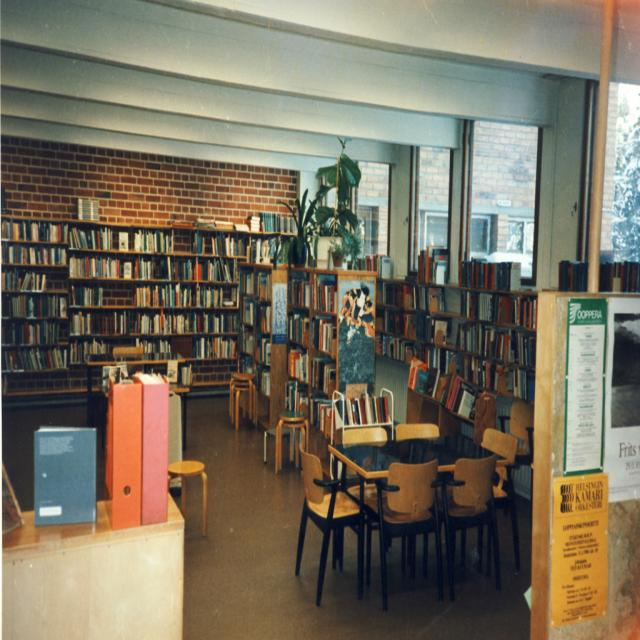Book: (0, 221, 335, 463), (348, 236, 544, 498), (108, 372, 140, 533)
